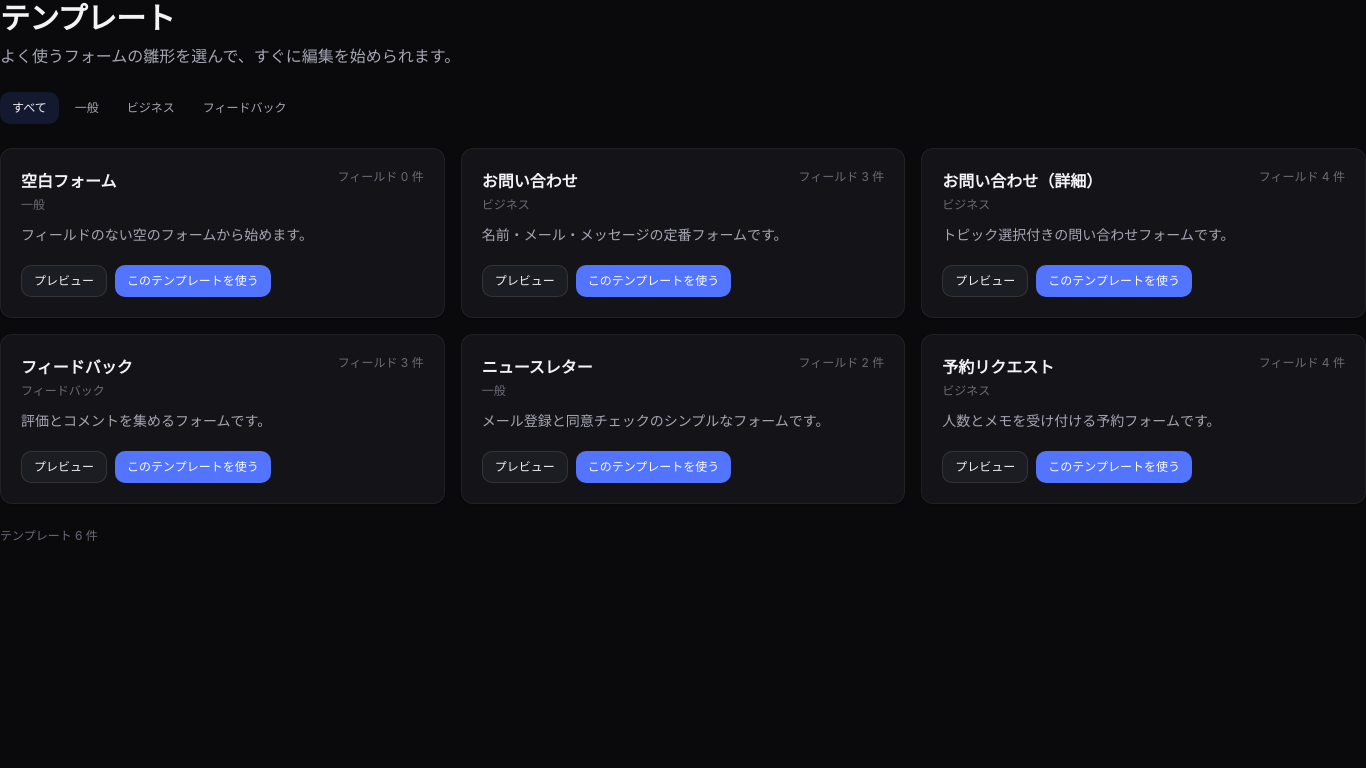
Test: TemplateGallery › cancels apply without writing storage
Click the button "このテンプレートを使う" below "フィールドのない空のフォームから始めます。". click: (193, 281)
box: [115, 265, 271, 297]
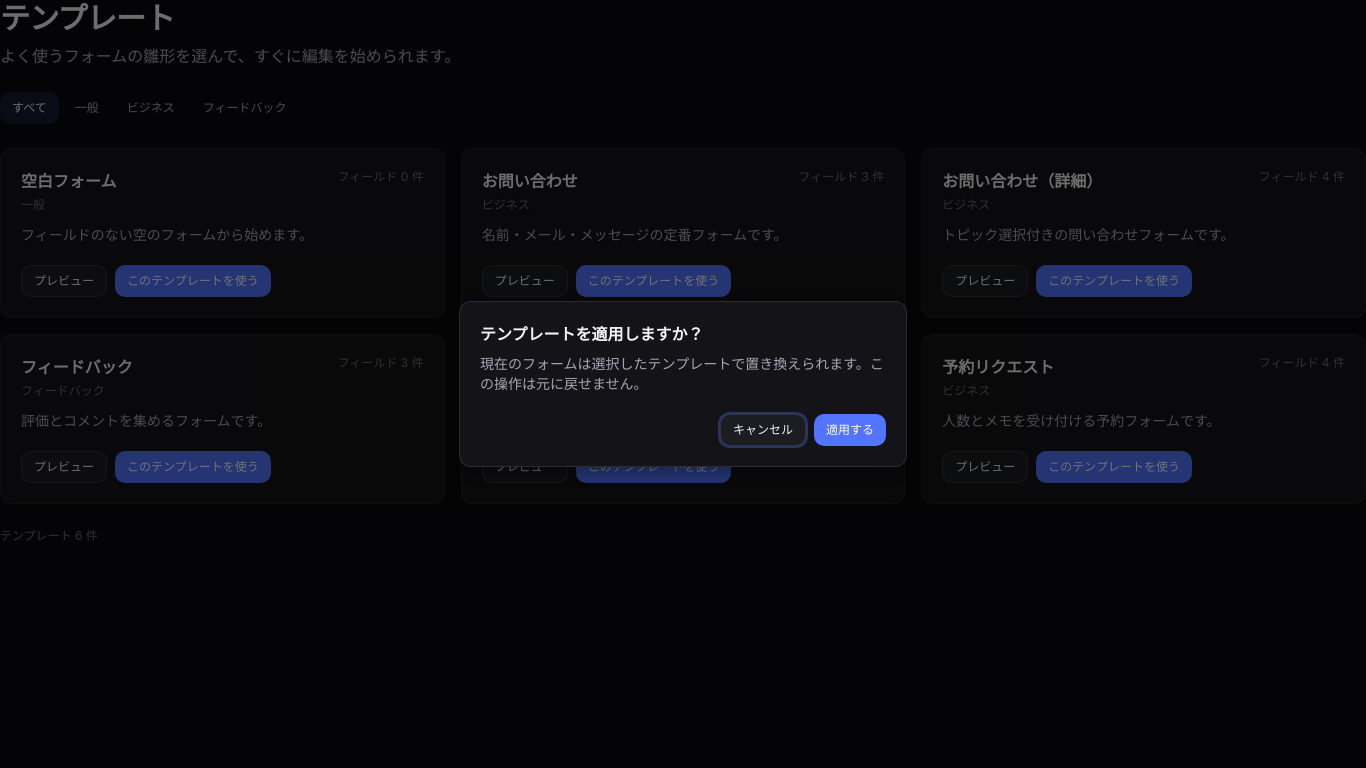
expect the dialog is shown: met, box [459, 301, 907, 467]
Click the button "キャンセル". click: (763, 430)
box: [720, 414, 806, 446]
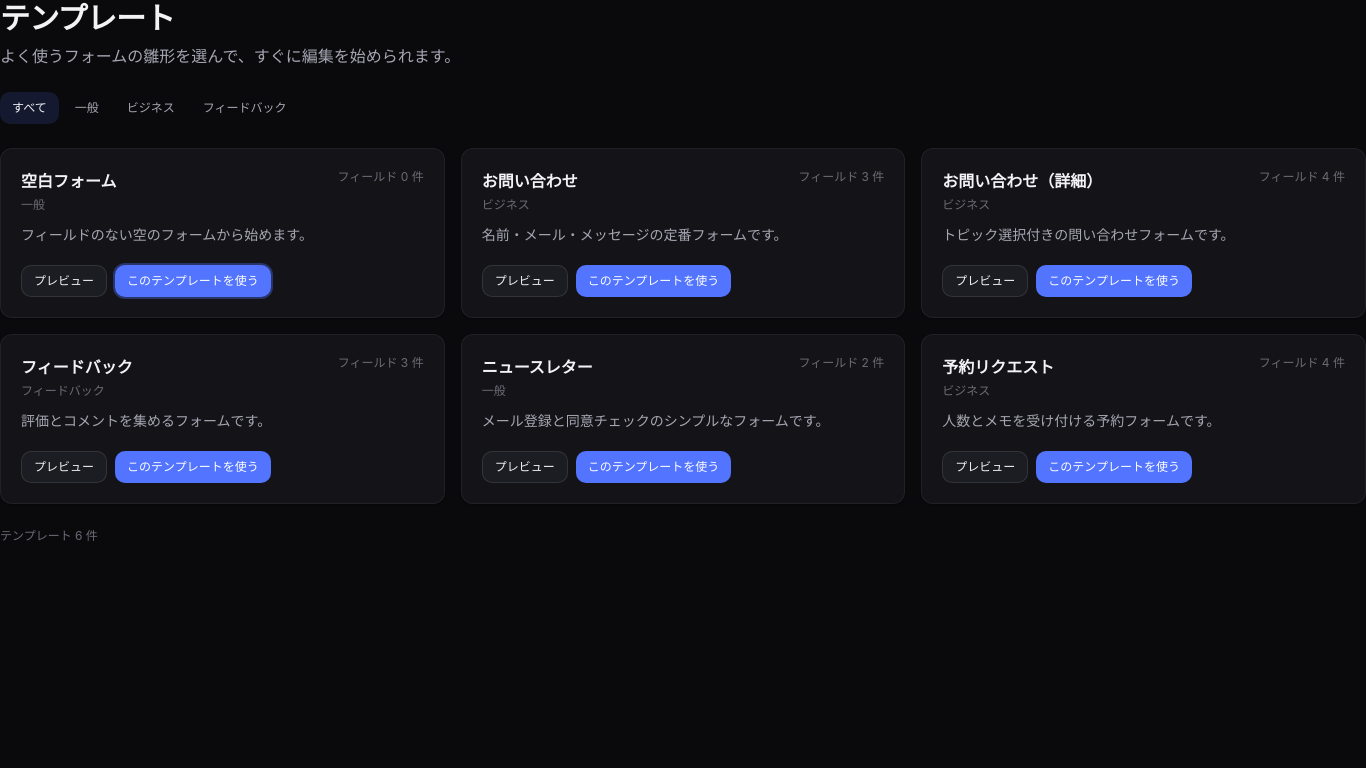
expect the dialog is gone: met
